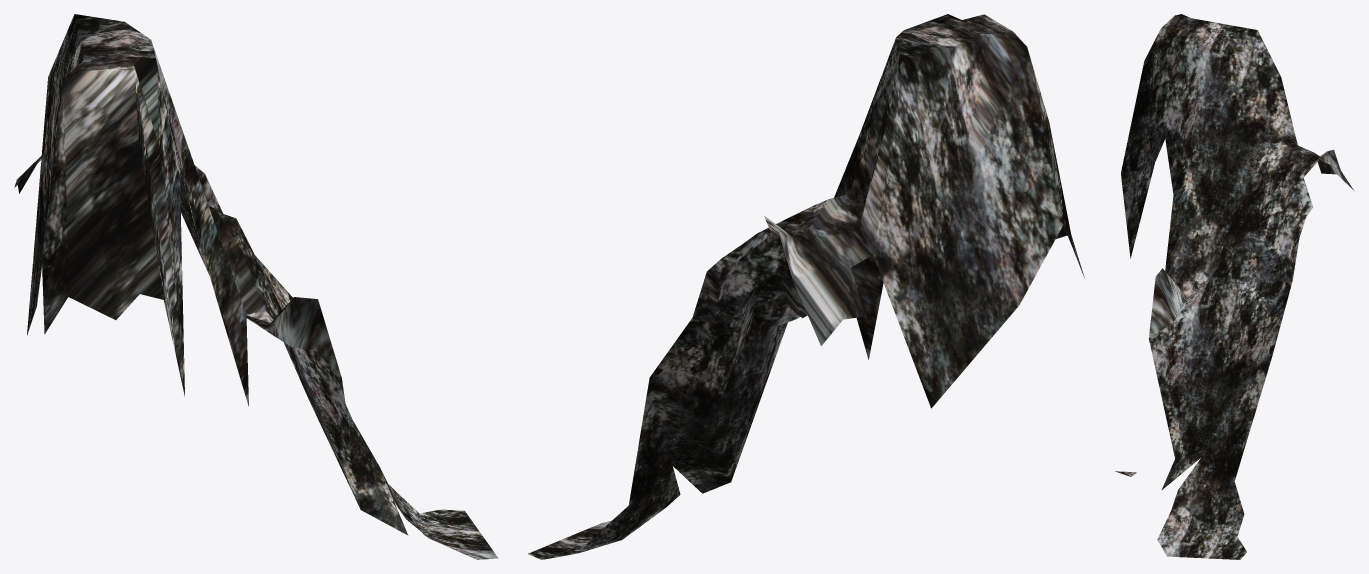
The model's file is OVERHILL_A_01_MOUN1_OBJECT152.fbx.
3 renders of one model, left to right at view 1: azimuth 30°, elevation 25°; view 2: azimuth 150°, elevation 25°; view 3: azimuth 270°, elevation 25°, orthographic. The views are drawn at different scales.
Visible parts, largest first — view 1: OVERHILL_A_01_MOUN1_OBJECT152; view 2: OVERHILL_A_01_MOUN1_OBJECT152; view 3: OVERHILL_A_01_MOUN1_OBJECT152.
Boxes of the visible parts, x1,y1,x2,y2 form: OVERHILL_A_01_MOUN1_OBJECT152: (14, 14, 498, 559); OVERHILL_A_01_MOUN1_OBJECT152: (528, 14, 1084, 559); OVERHILL_A_01_MOUN1_OBJECT152: (1115, 14, 1353, 559).
Size of the model in its own units: 289369 by 336103 by 180308.
1 material, 1 textured.
